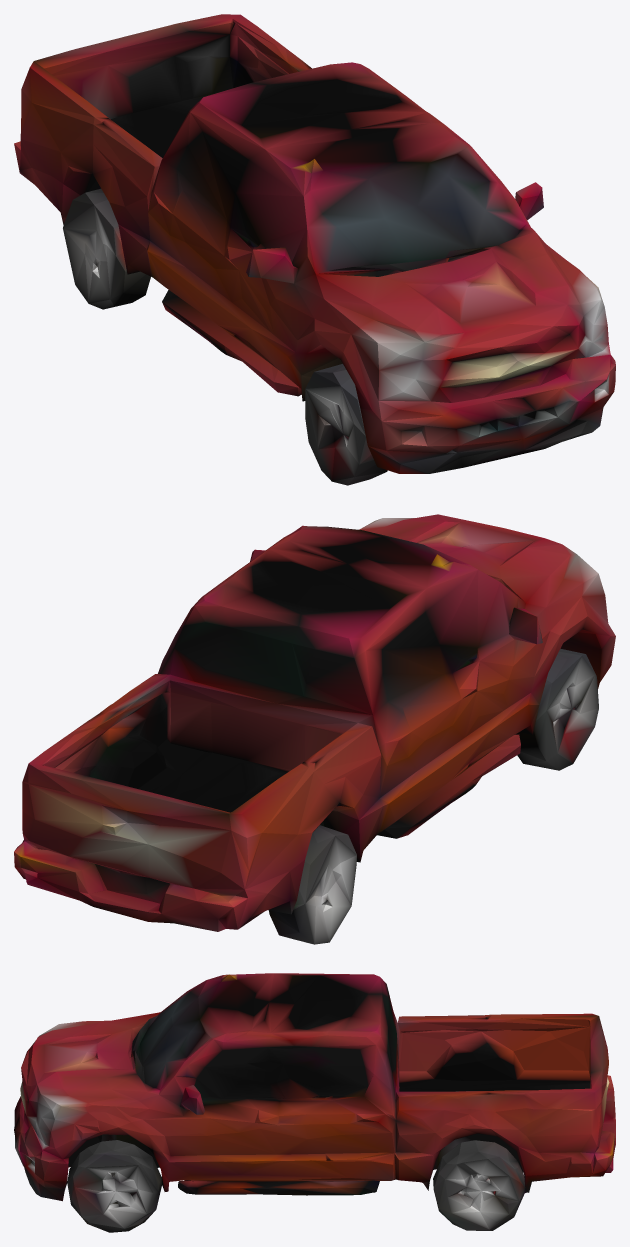
File: car-pickup.glb
The picture shows the model from 3 angles, top to bottom: view 1: azimuth 30°, elevation 25°; view 2: azimuth 150°, elevation 25°; view 3: azimuth 270°, elevation 25°; orthographic projection. The views are drawn at different scales.
Parts seen in each view (by area): view 1: geometry_0; view 2: geometry_0; view 3: geometry_0.
Boxes of the visible parts, x1=… form: geometry_0: x1=14, y1=14, x2=615, y2=485; geometry_0: x1=14, y1=514, x2=615, y2=944; geometry_0: x1=14, y1=973, x2=615, y2=1232.
Bounding box in the file's own units: 0.8493 × 0.7062 × 1.99.
